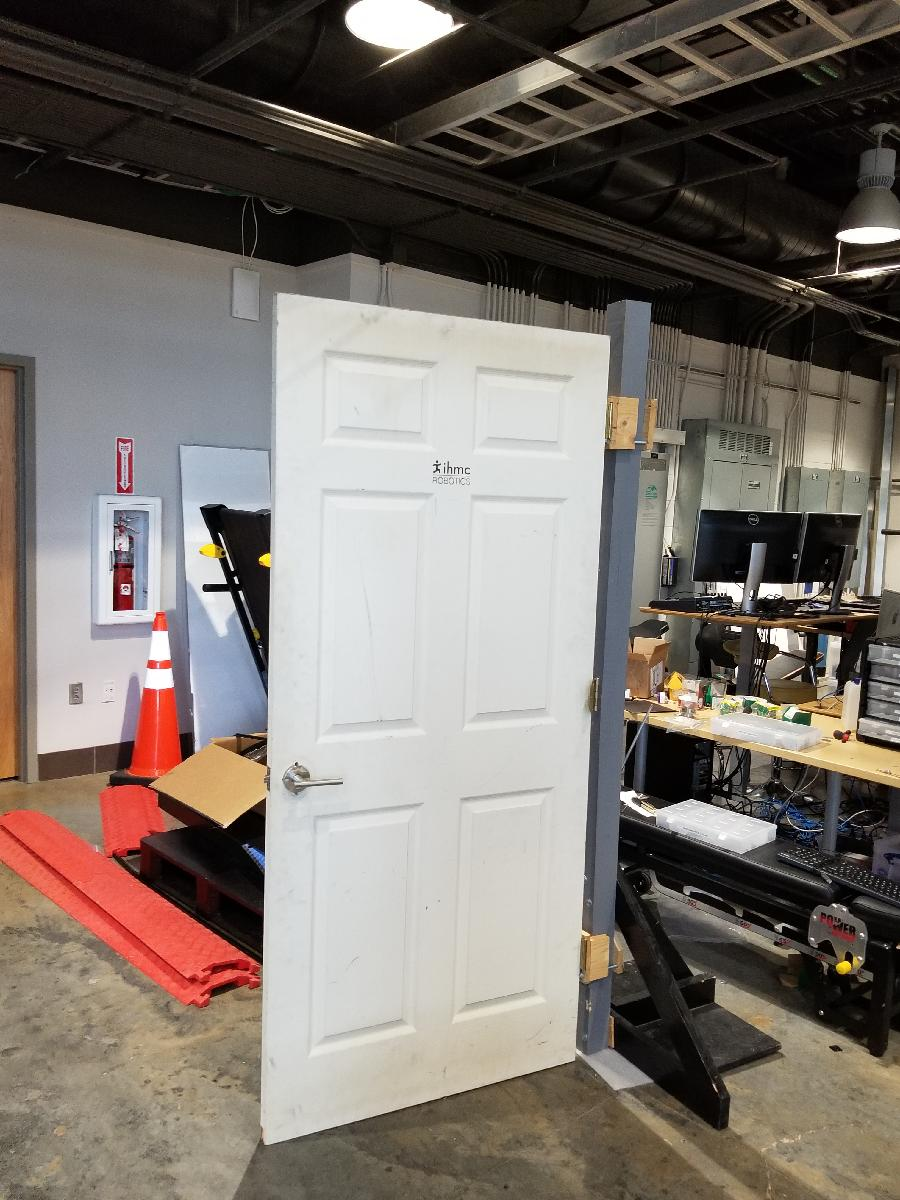door: (258, 289, 615, 1151)
doorHandle: (281, 763, 352, 805)
